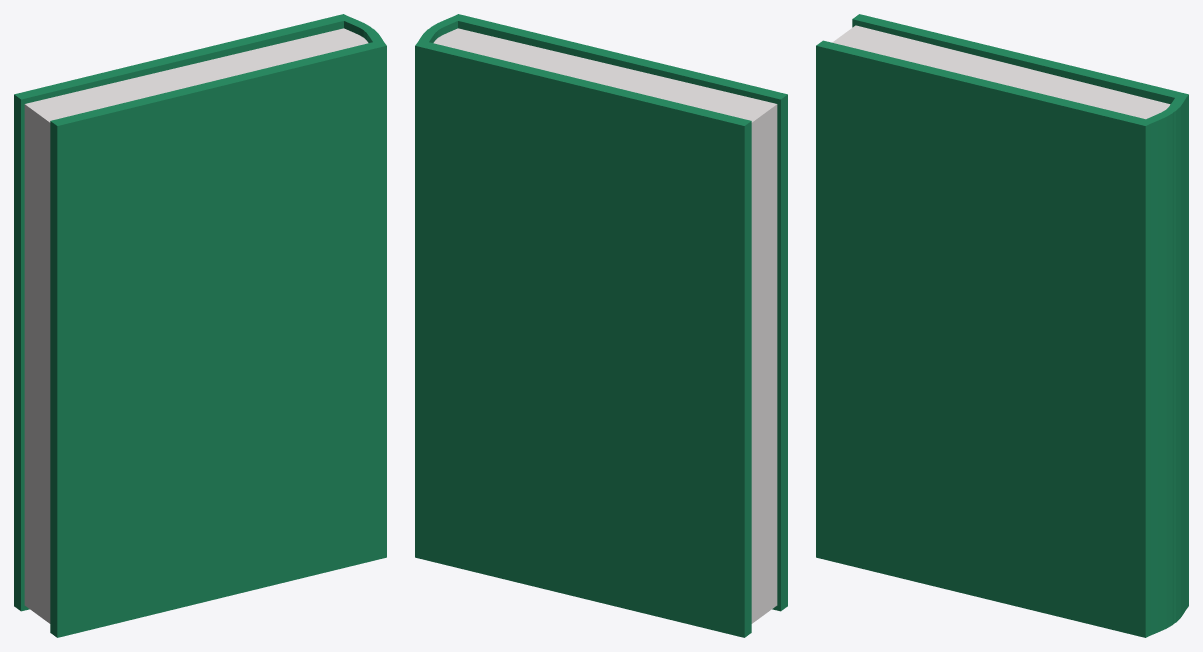
The model's file is Book_2.fbx.
3 renders of one model, left to right at view 1: azimuth 30°, elevation 25°; view 2: azimuth 150°, elevation 25°; view 3: azimuth 330°, elevation 25°, orthographic.
Parts seen in each view (by area): view 1: Book_2; view 2: Book_2; view 3: Book_2.
Part boxes in pixels (bbox=[...]): Book_2: bbox=[14, 14, 386, 637]; Book_2: bbox=[415, 14, 787, 637]; Book_2: bbox=[816, 14, 1188, 637].
Bounding box in the file's own units: 57.03 × 82.87 × 12.71.
